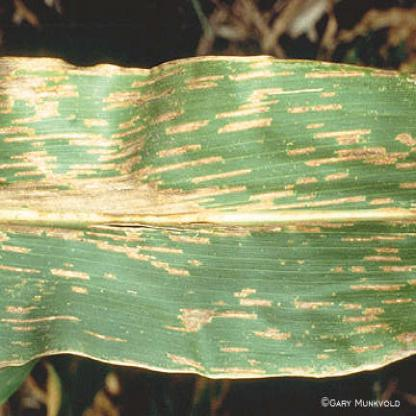Corn leaf blight: (2, 55, 415, 385)
